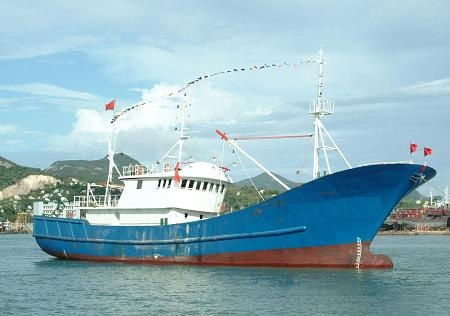otherboat: (29, 95, 439, 270)
